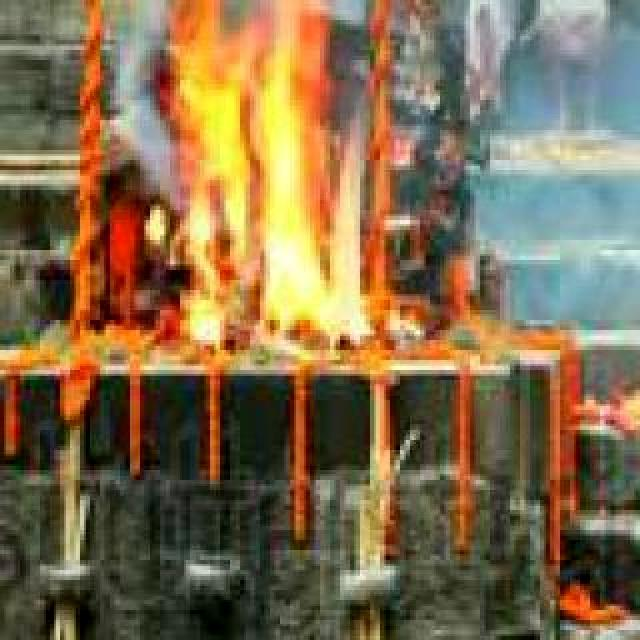fire: (176, 0, 398, 346)
